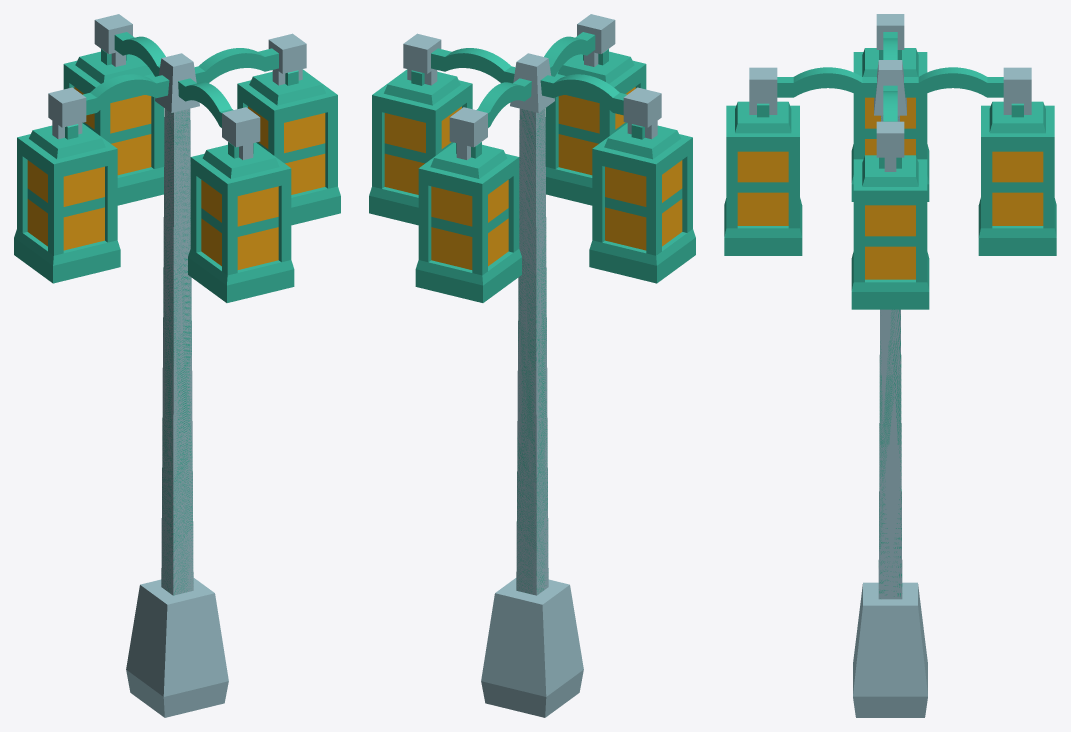
File: lightpostAll.dae
3 renders of one model, left to right at view 1: azimuth 30°, elevation 25°; view 2: azimuth 150°, elevation 25°; view 3: azimuth 270°, elevation 25°, orthographic.
Parts seen in each view (by area): view 1: lightpostAll; view 2: lightpostAll; view 3: lightpostAll.
Boxes of the visible parts, left/top/right/bottom form: lightpostAll: left=14, top=14, right=340, bottom=717; lightpostAll: left=369, top=14, right=695, bottom=717; lightpostAll: left=724, top=14, right=1056, bottom=717.
Bounding box in the file's own units: 0.6225 × 1.32 × 0.6225.
